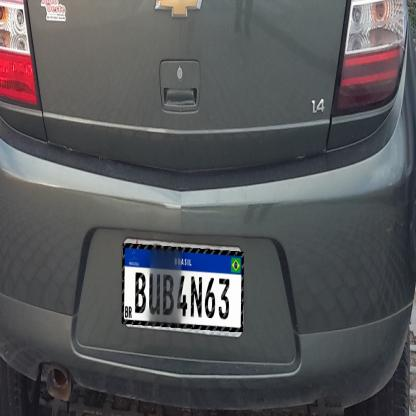PlacaM: (122, 243, 244, 332)
